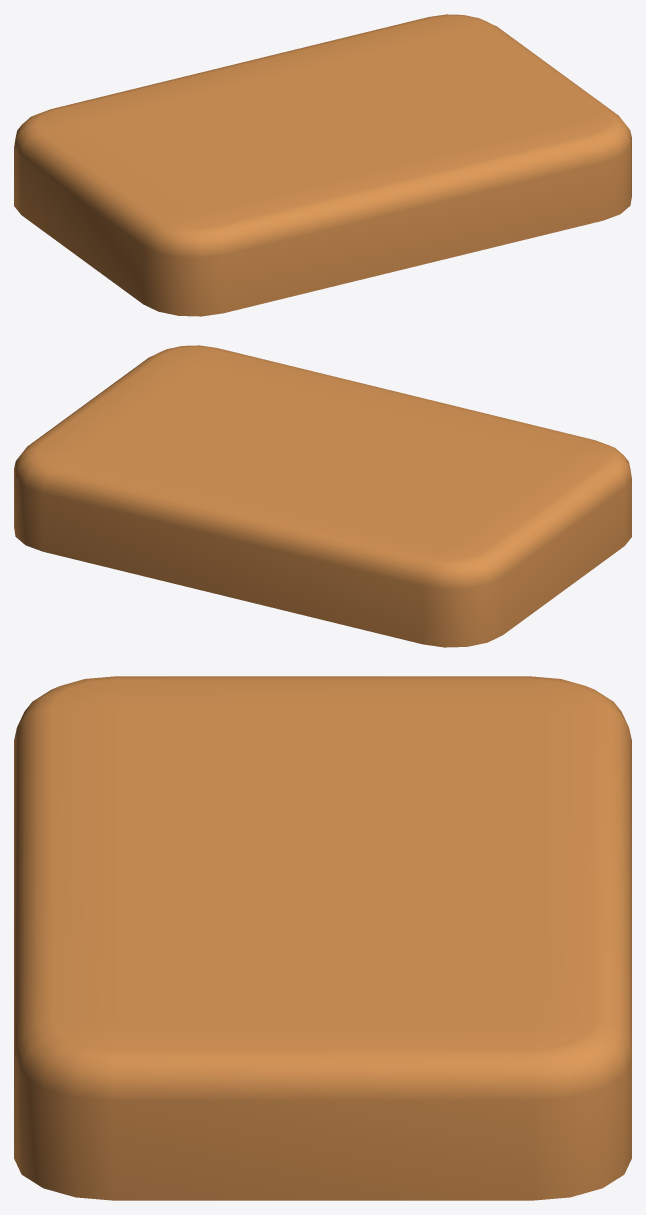
File: UICoverSymbols.fbx
3 renders of one model, top to bottom at view 1: azimuth 30°, elevation 25°; view 2: azimuth 150°, elevation 25°; view 3: azimuth 270°, elevation 25°, orthographic. The views are drawn at different scales.
Visible parts, largest first — view 1: UICoverSymbols; view 2: UICoverSymbols; view 3: UICoverSymbols.
Part boxes in pixels (x1,y1,x2,y2): UICoverSymbols: [14, 14, 631, 316]; UICoverSymbols: [14, 345, 631, 647]; UICoverSymbols: [14, 676, 631, 1200].
Bounding box in the file's own units: 34.82 × 5.43 × 22.6.
